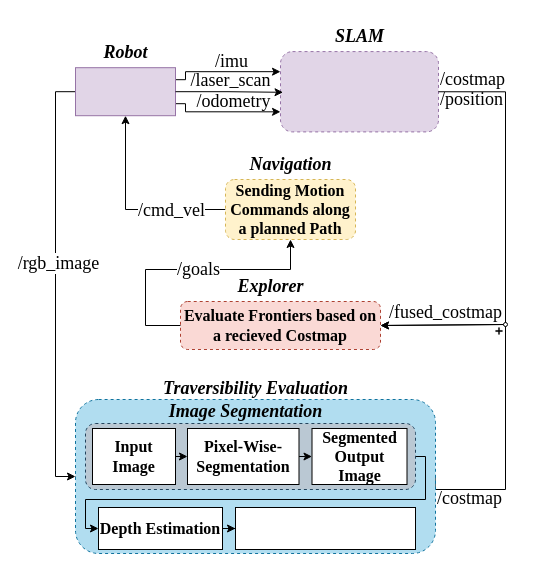
This 535x572 diagram has some shape labels left out. Each missing label, with the centre of its shape:
Generating Map while Localising the Robot relative to the Map: the point at 359,91
Projection on the Costmap: the point at 325,528
Turtlebot3: the point at 125,91
